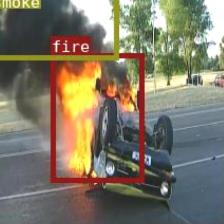fire: (50, 53, 143, 182)
smoke: (0, 0, 117, 58)
